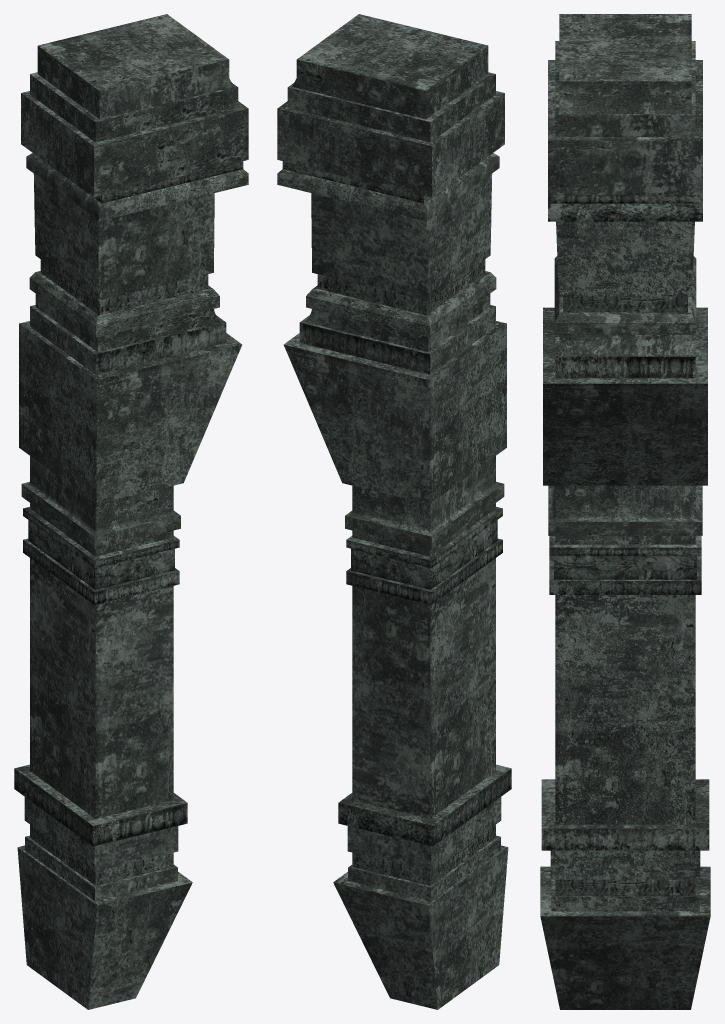
The model's file is mg_9_pillar_4.fbx.
3 views of the same model, side by side, from view 1: azimuth 30°, elevation 25°; view 2: azimuth 150°, elevation 25°; view 3: azimuth 270°, elevation 25° (orthographic). The views are drawn at different scales.
Parts seen in each view (by area): view 1: mg_9_pillar_4; view 2: mg_9_pillar_4; view 3: mg_9_pillar_4.
Part boxes in pixels (x1,y1,x2,y2): mg_9_pillar_4: (14,14,248,1009); mg_9_pillar_4: (277,14,511,1009); mg_9_pillar_4: (540,14,710,1009).
Bounding box in the file's own units: 340 × 1878 × 297.
